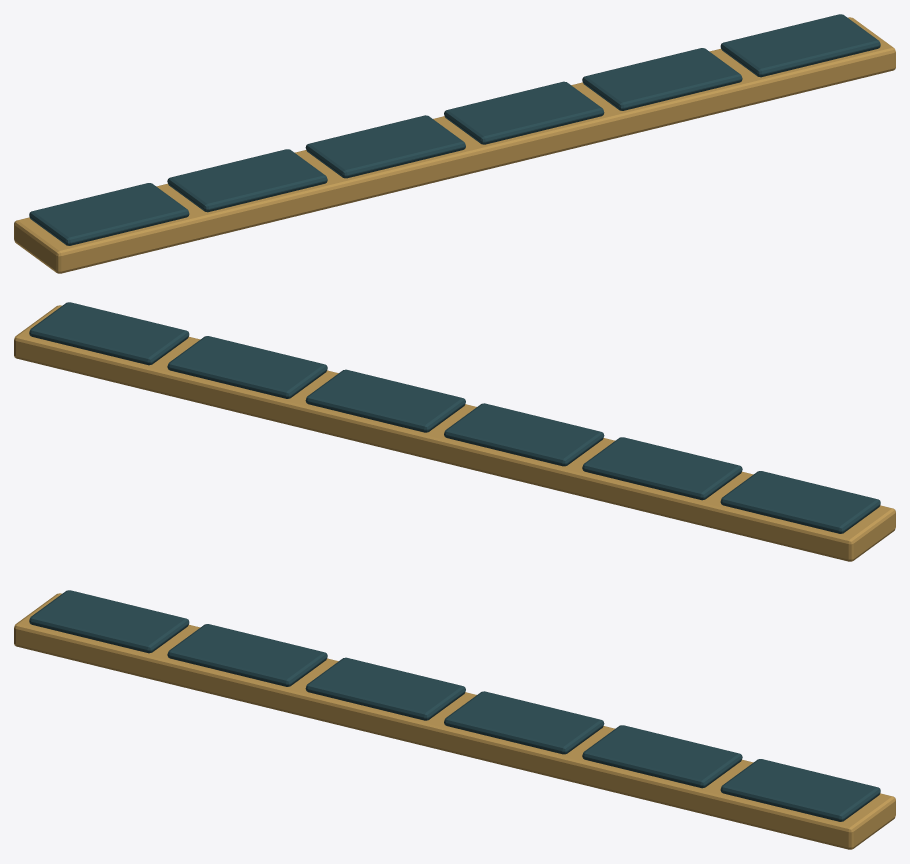
The model's file is lever.fbx.
The picture shows the model from 3 angles, top to bottom: view 1: azimuth 30°, elevation 25°; view 2: azimuth 150°, elevation 25°; view 3: azimuth 330°, elevation 25°; orthographic projection.
Parts seen in each view (by area): view 1: lever_Midnight teal, Six-cell beam; view 2: lever_Midnight teal, Six-cell beam; view 3: lever_Midnight teal, Six-cell beam.
Part boxes in pixels (x1=…): lever_Midnight teal: x1=29, y1=14, x2=880, y2=245; Six-cell beam: x1=14, y1=17, x2=895, y2=273; lever_Midnight teal: x1=29, y1=302, x2=880, y2=533; Six-cell beam: x1=14, y1=305, x2=895, y2=561; lever_Midnight teal: x1=29, y1=590, x2=880, y2=821; Six-cell beam: x1=14, y1=593, x2=895, y2=849.
Size of the model in its own units: 850 by 30 by 80.
